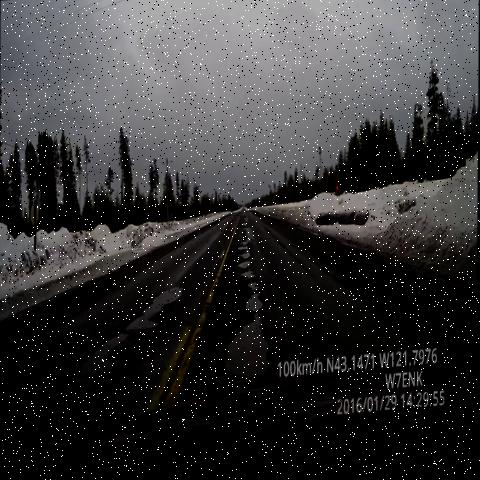pothole: (63, 308, 131, 410), (127, 266, 194, 340), (220, 316, 281, 396), (237, 261, 277, 322), (232, 235, 261, 277), (237, 210, 255, 236)
